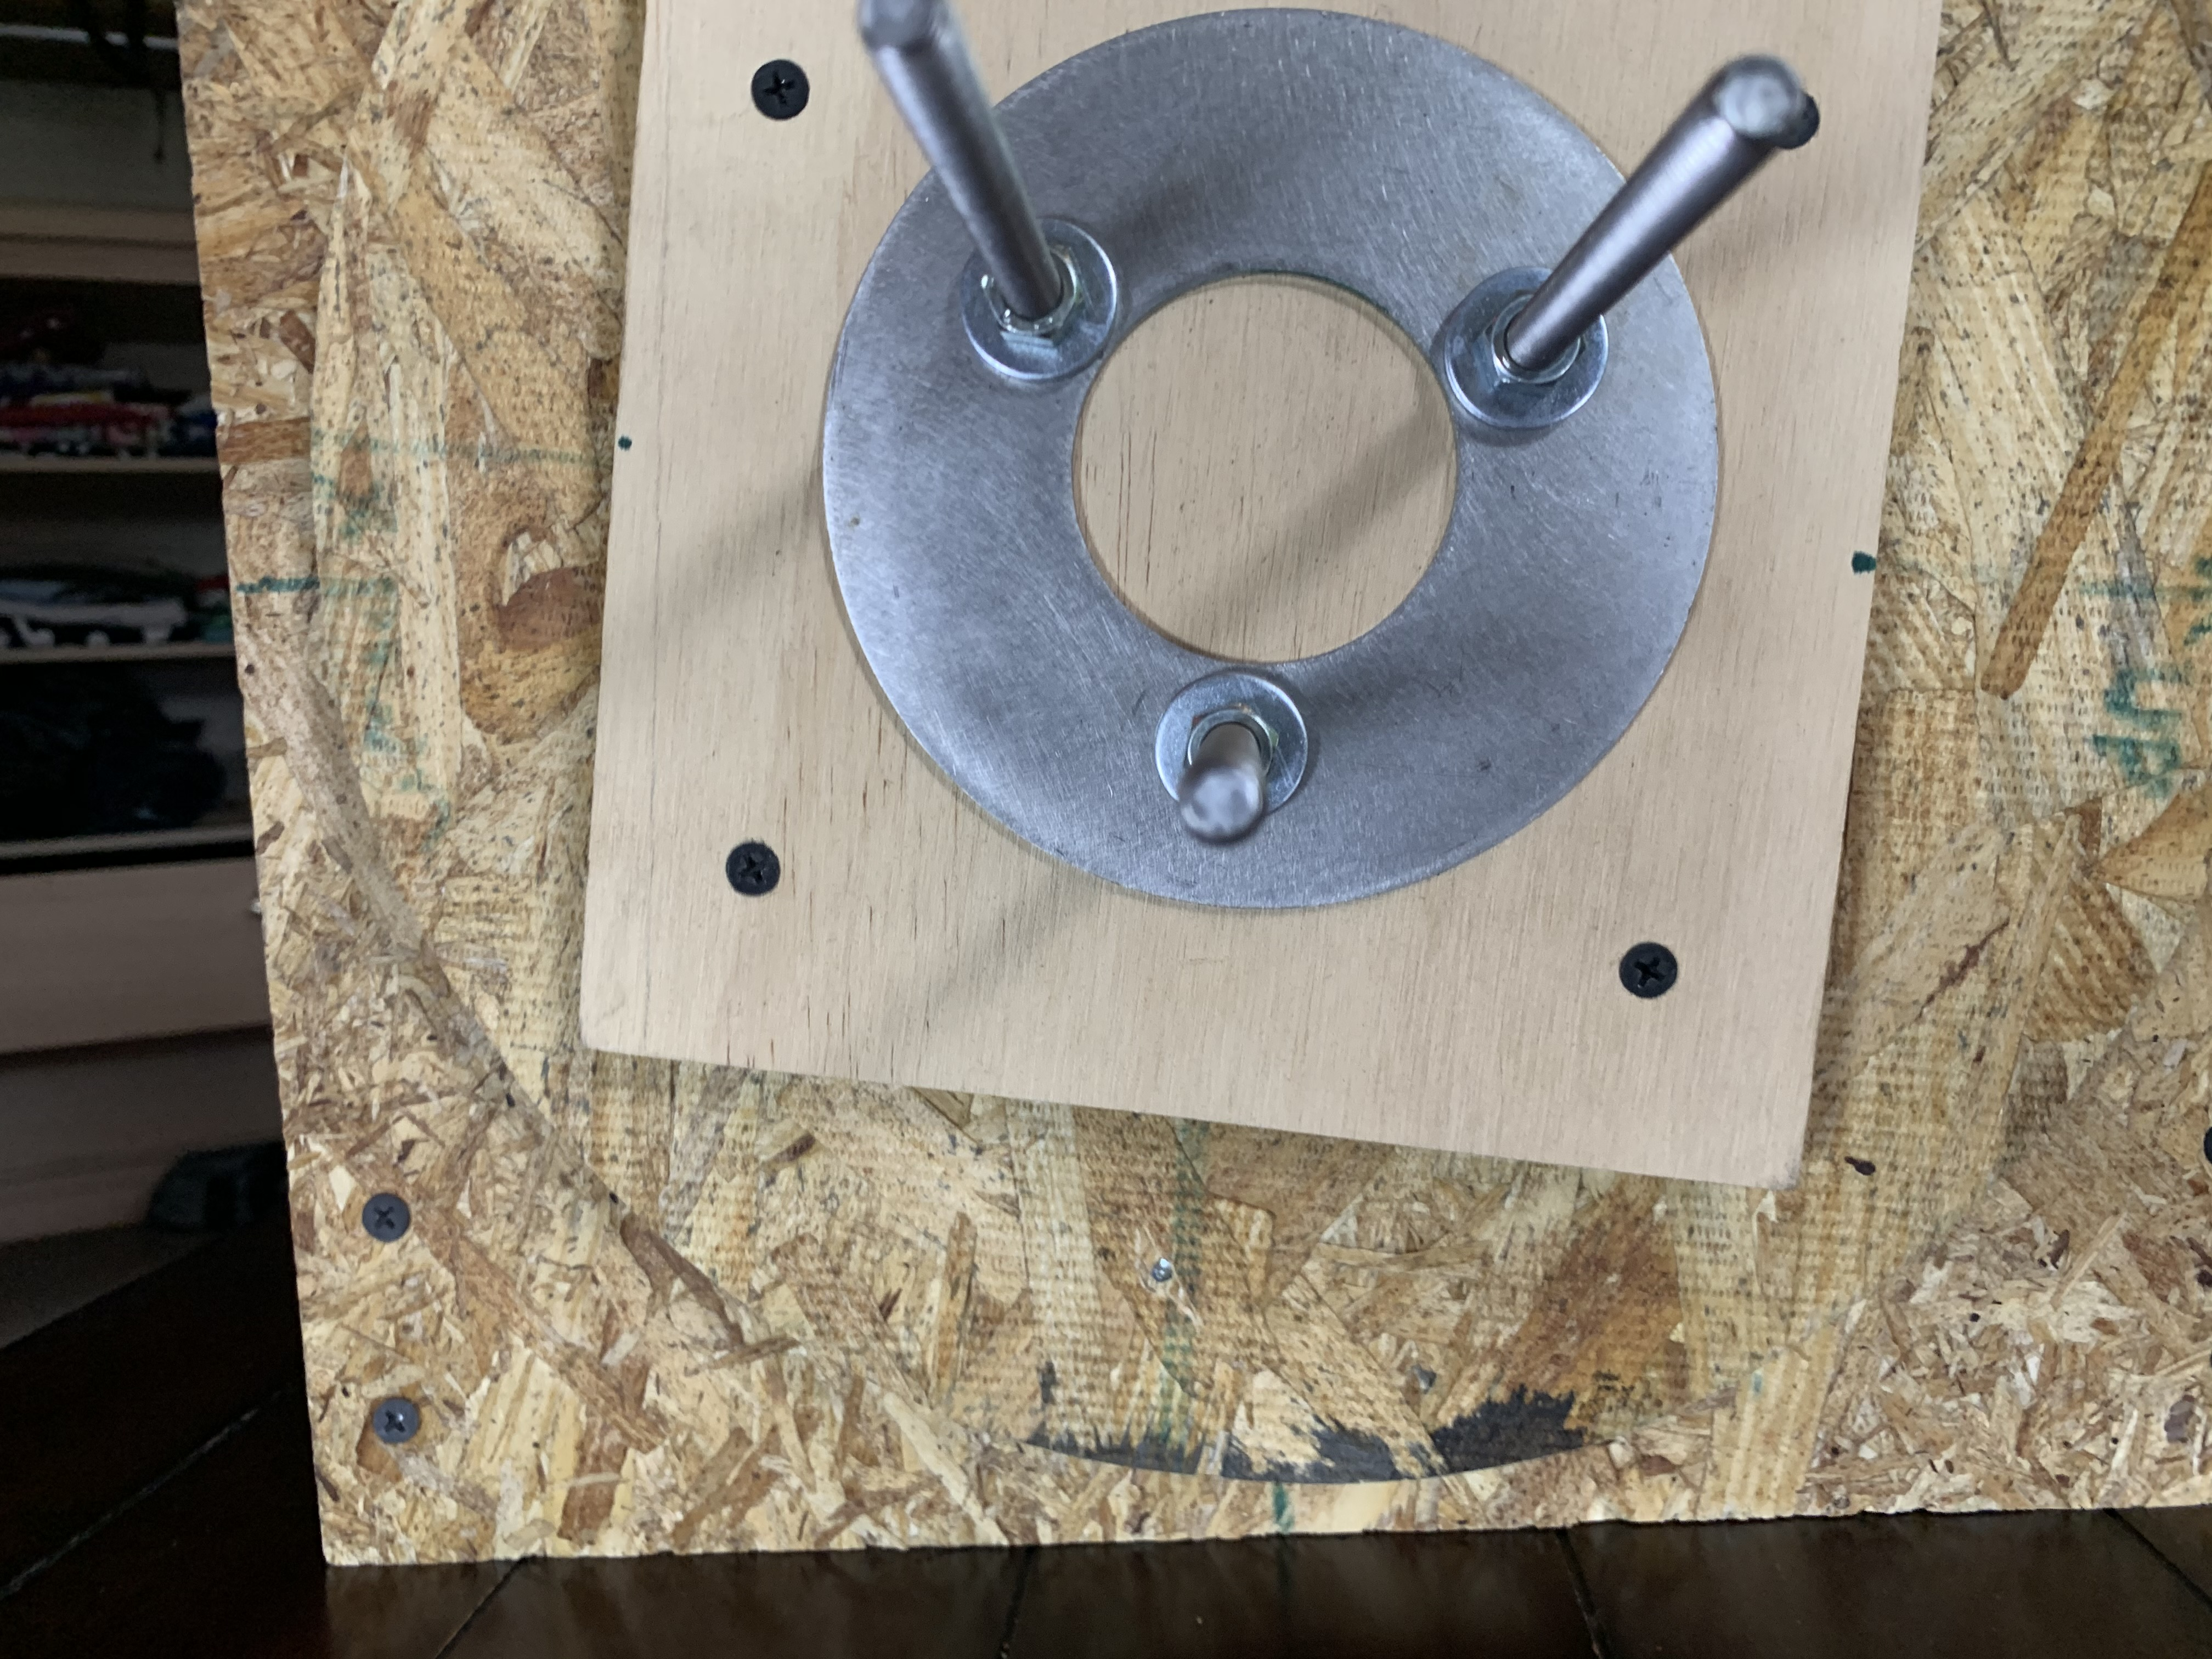bolt: (954, 211, 1122, 380), (1437, 267, 1609, 430), (1151, 666, 1312, 819)
